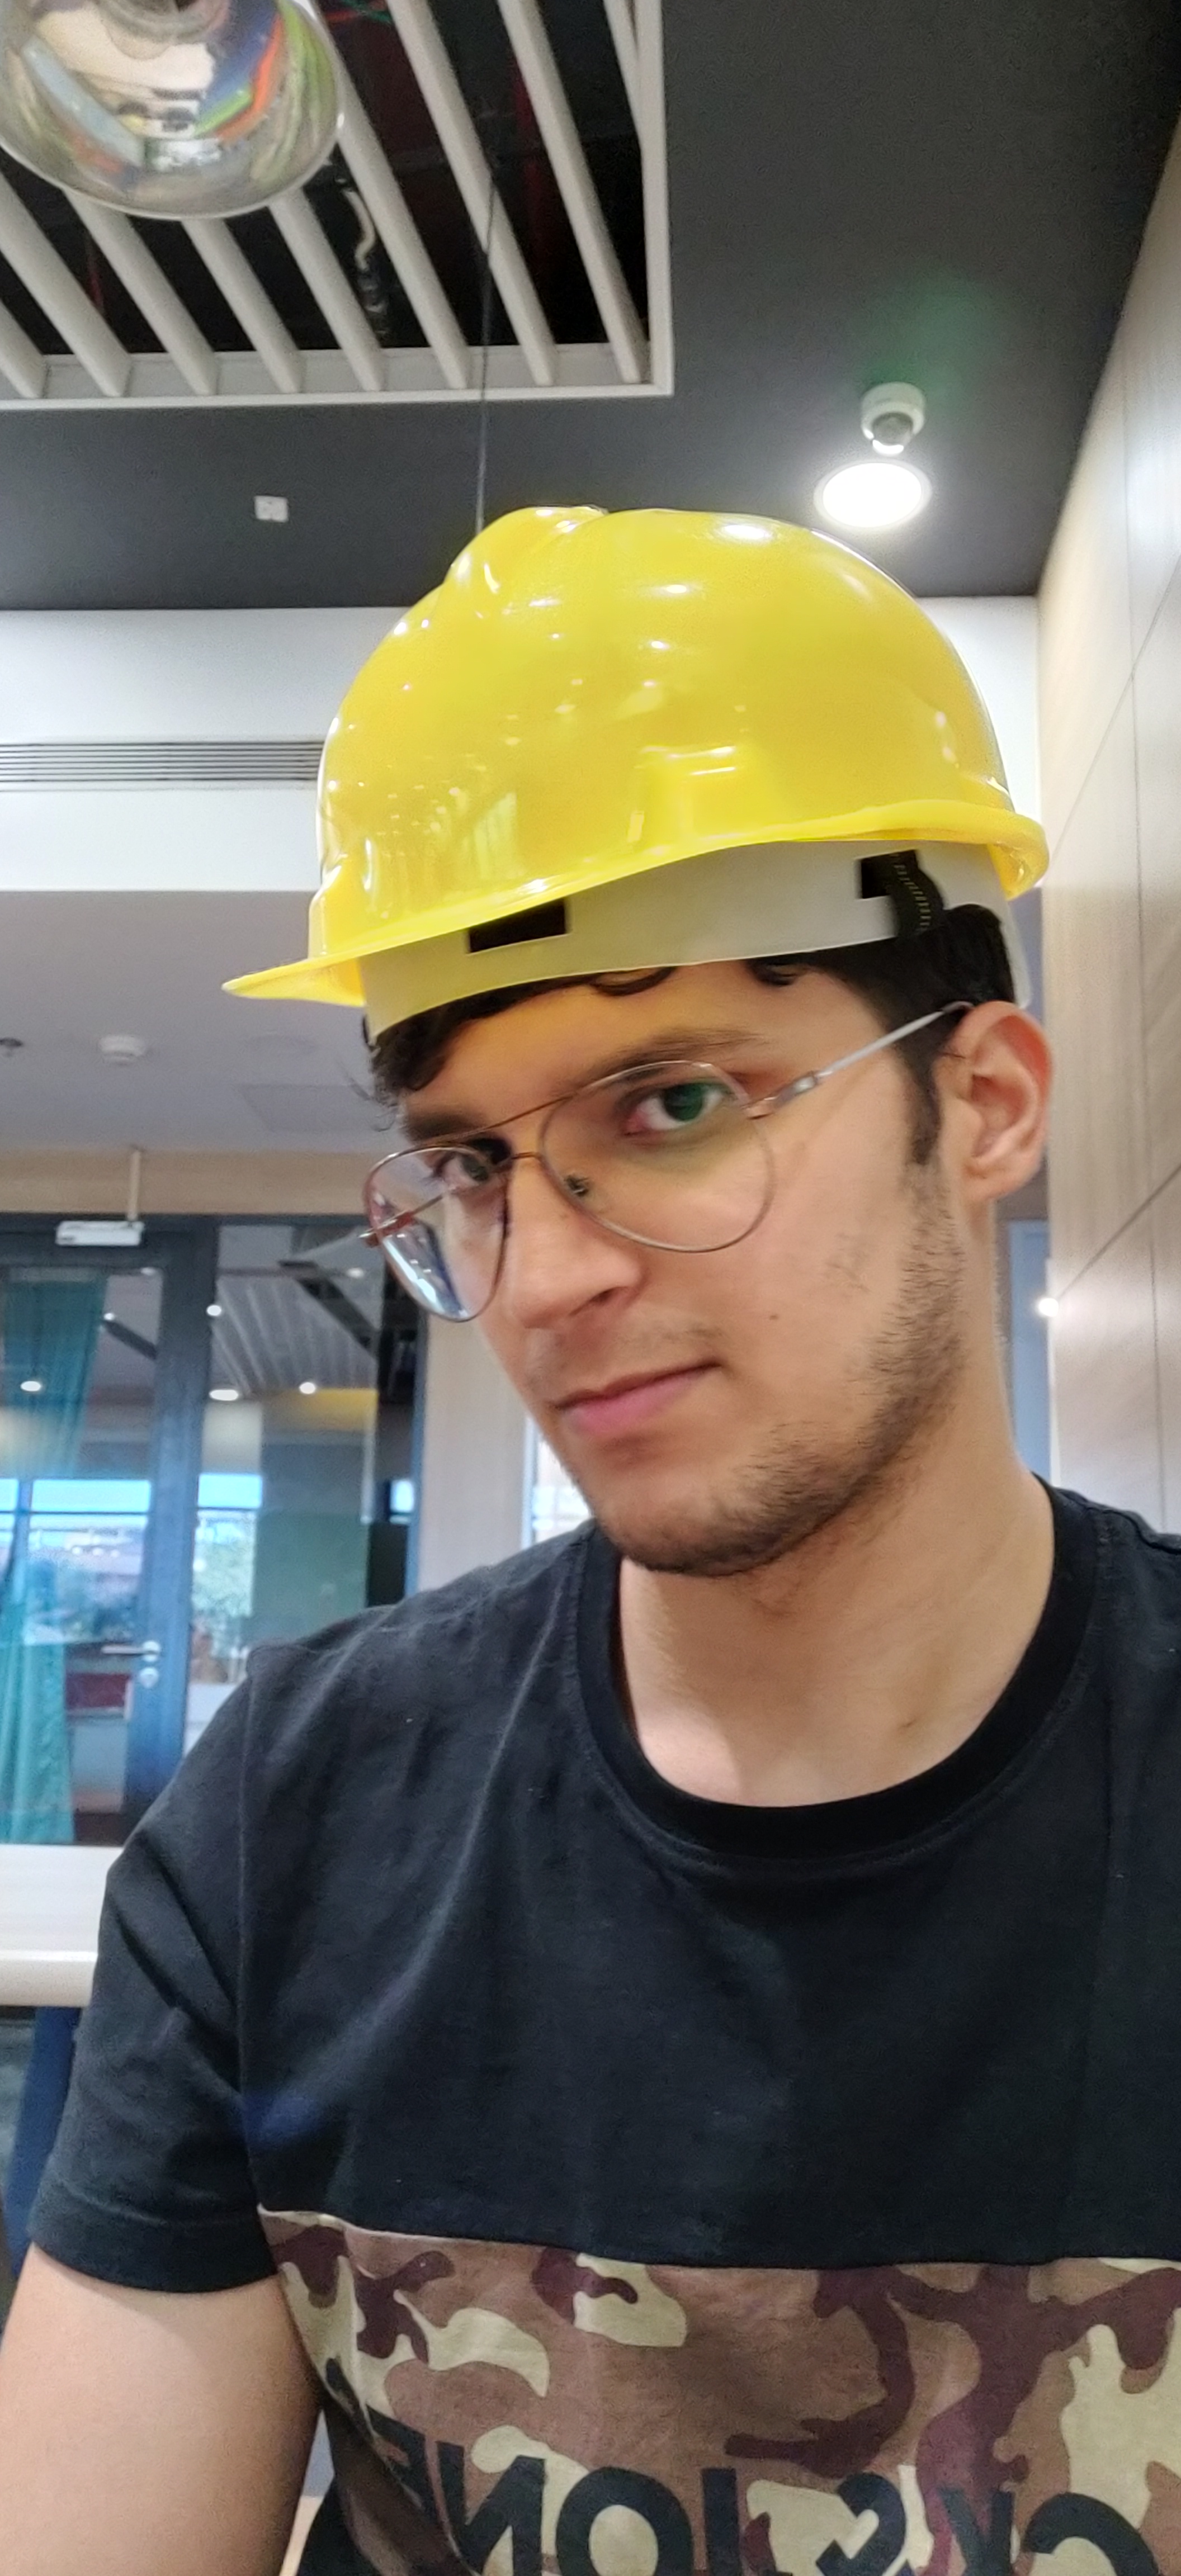Person_wearing_helmet: (247, 445, 1150, 1257)
